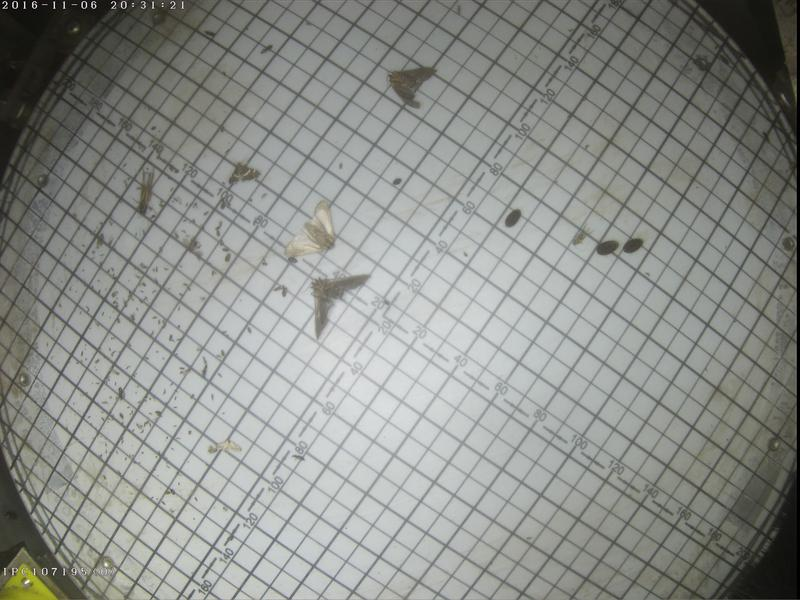Spodoptera litura: (280, 197, 335, 256)
